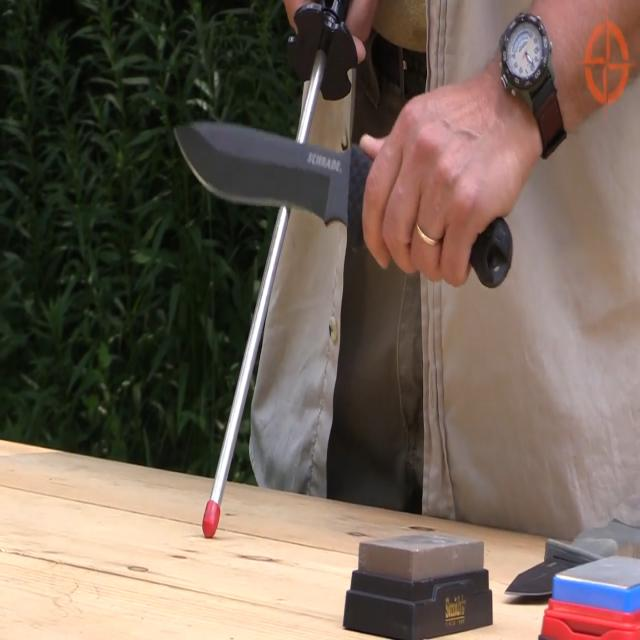knife: (168, 104, 375, 246)
